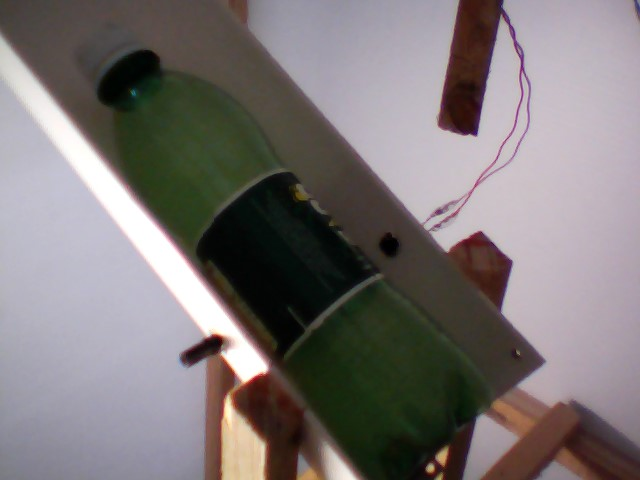plastico: (64, 7, 503, 480)
